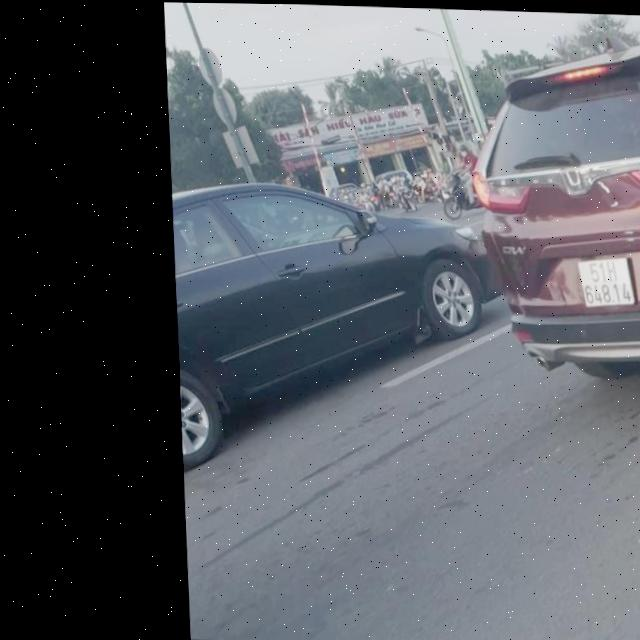car: (163, 178, 512, 481), (459, 34, 640, 393)
plate: (568, 254, 640, 312)
